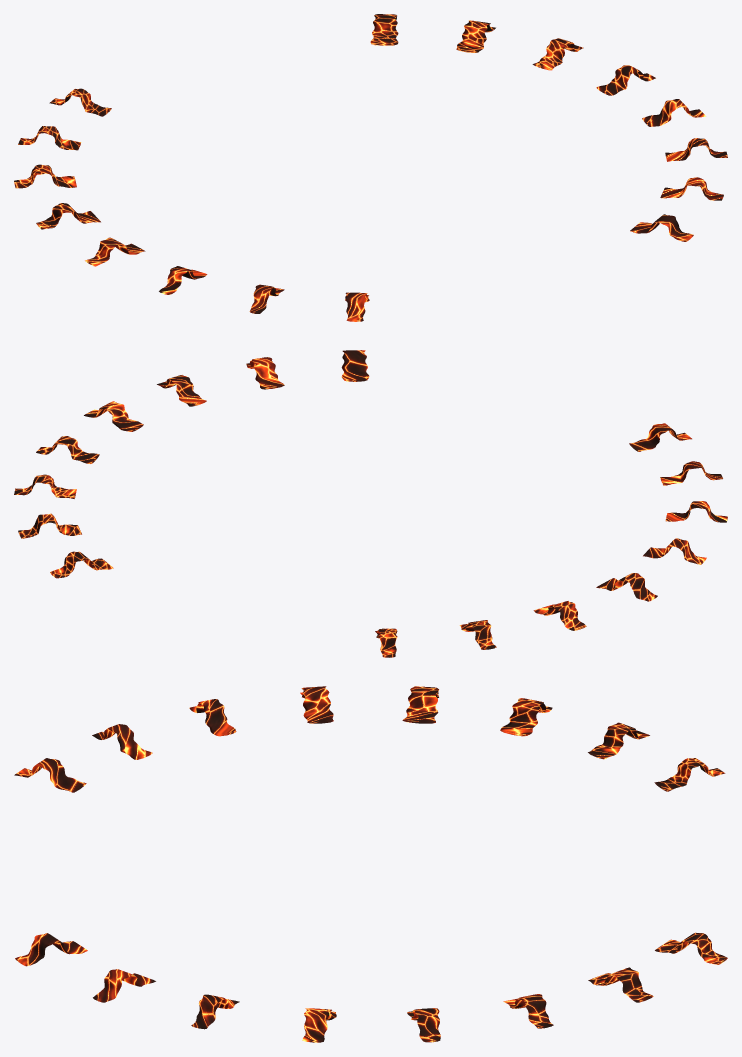
File: lava_spill.glb
3 renders of one model, top to bottom at view 1: azimuth 30°, elevation 25°; view 2: azimuth 150°, elevation 25°; view 3: azimuth 270°, elevation 25°, orthographic. The views are drawn at different scales.
Bounding box in the file's own units: 151 × 3.66 × 130.
Materials: 1 (1 with a texture image).
